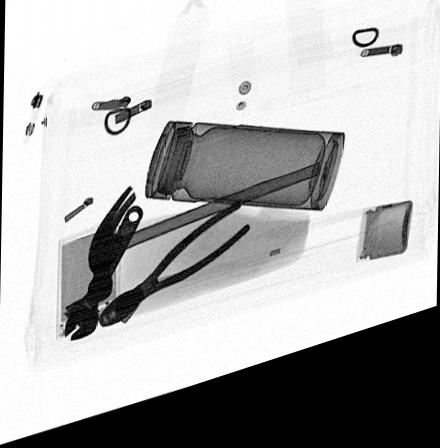Hammer: (82, 181, 320, 309)
Pliers: (99, 213, 251, 333)
Powerbank: (54, 223, 118, 342)
Wrench: (62, 210, 144, 345)
